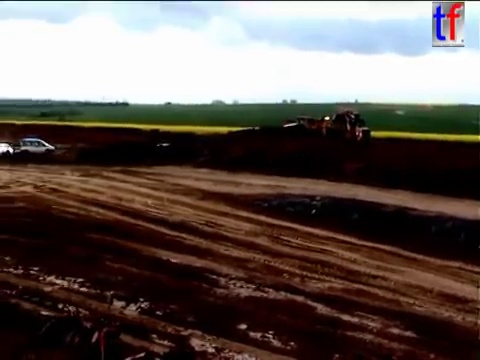excavator: (294, 109, 373, 147)
